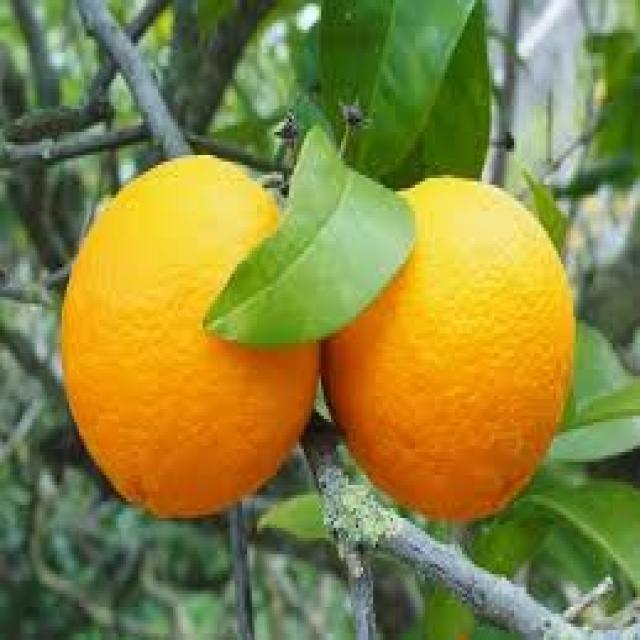Orange: (59, 152, 319, 518), (319, 172, 576, 522)
